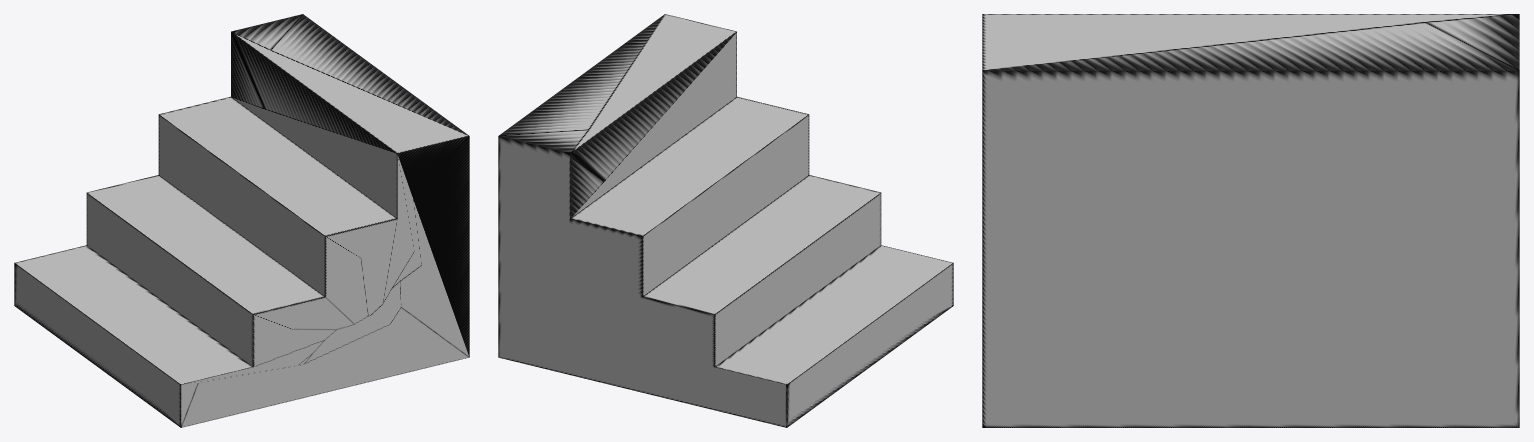
Rendered from stairs.obj.
The picture shows the model from 3 angles, left to right: view 1: azimuth 30°, elevation 25°; view 2: azimuth 150°, elevation 25°; view 3: azimuth 270°, elevation 25°; orthographic projection. The views are drawn at different scales.
Visible parts, largest first — view 1: 平面; view 2: 平面; view 3: 平面.
Part boxes in pixels (bbox=[...]): 平面: bbox=[14, 14, 469, 427]; 平面: bbox=[498, 14, 953, 427]; 平面: bbox=[982, 14, 1519, 427].
Bounding box in the file's own units: 2 × 1.47 × 2.
Materials: 1 (1 with a texture image).
